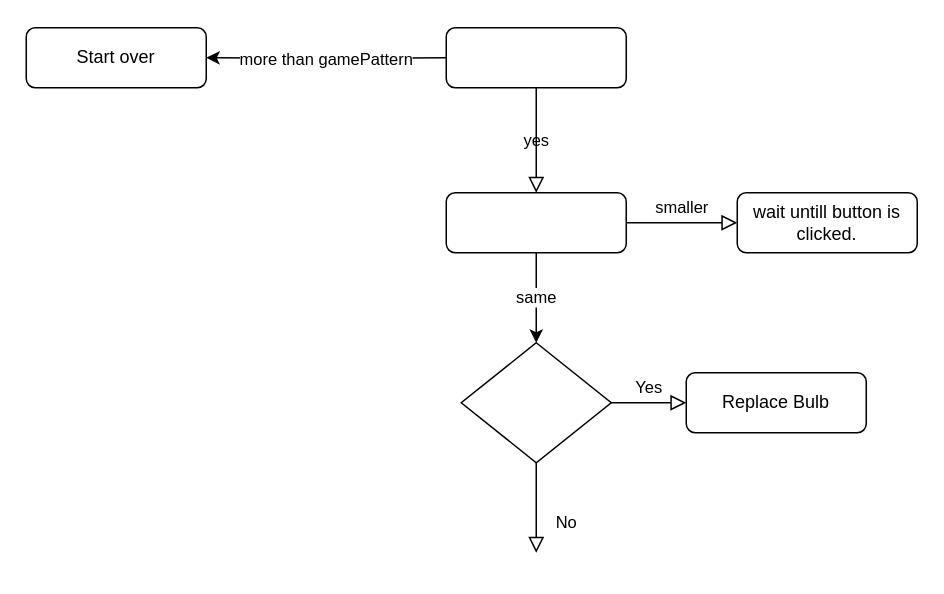
The diagram is 944 pixels wide and 594 high, and some of its shapes have lost their labels. Each missing label, with the box of its shape:
gamepattern and userclickedpattern @index is the same: (445, 26, 626, 88)
is the gamePattern the same lenght as userClickedPattern?: (445, 191, 626, 253)
